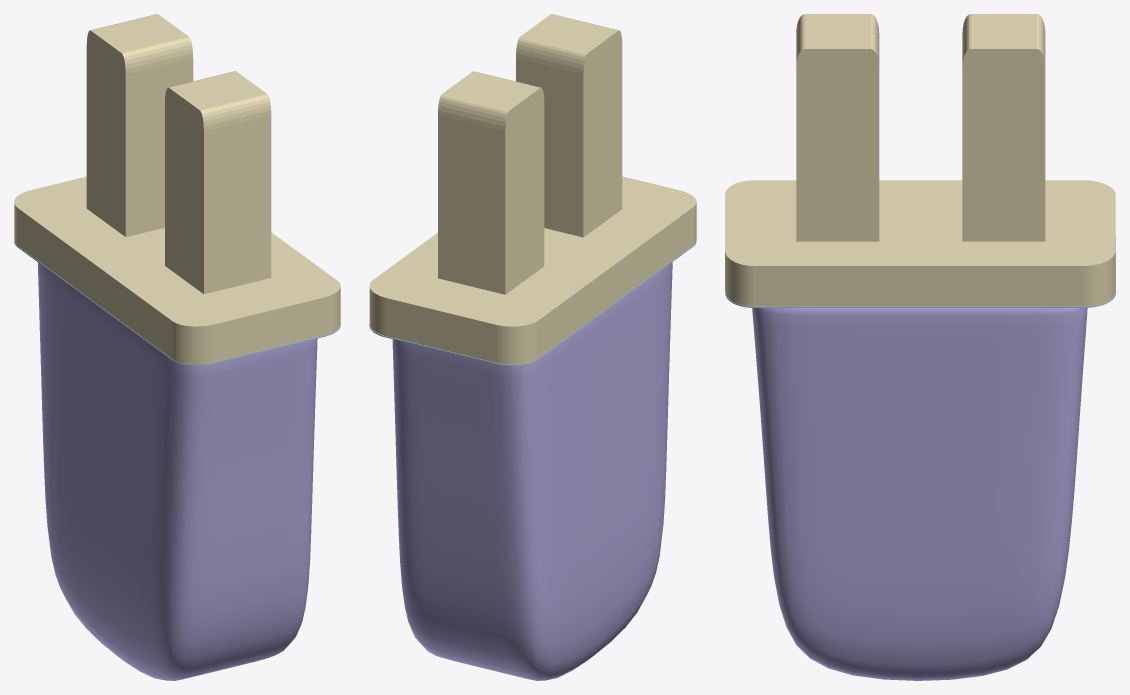
Rendered from SladoledKutija1.fbx.
The picture shows the model from 3 angles, left to right: view 1: azimuth 30°, elevation 25°; view 2: azimuth 150°, elevation 25°; view 3: azimuth 270°, elevation 25°; orthographic projection. The views are drawn at different scales.
Parts seen in each view (by area): view 1: Cube.082, PoklopacSladoledKutija, PokopacSladoled.001; view 2: Cube.082, PoklopacSladoledKutija, PokopacSladoled.001; view 3: Cube.082, PoklopacSladoledKutija, PokopacSladoled.001.
Boxes of the visible parts, x1,y1,x2,y2 form: Cube.082: [38, 262, 317, 680]; PoklopacSladoledKutija: [14, 14, 340, 364]; PokopacSladoled.001: [14, 242, 340, 365]; Cube.082: [392, 262, 672, 680]; PoklopacSladoledKutija: [369, 14, 696, 364]; PokopacSladoled.001: [369, 242, 696, 365]; Cube.082: [752, 308, 1087, 680]; PoklopacSladoledKutija: [725, 14, 1115, 306]; PokopacSladoled.001: [725, 236, 1115, 307].
Size of the model in its own units: 0.4905 by 1.67 by 0.9426.
